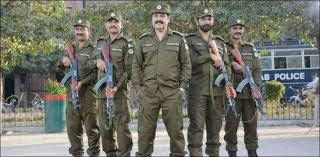gun: (228, 46, 270, 112), (207, 34, 234, 115), (94, 38, 115, 117), (60, 41, 80, 103)
uniform: (140, 28, 182, 147), (186, 28, 227, 148), (90, 37, 133, 147), (64, 42, 99, 153), (224, 39, 260, 144)
